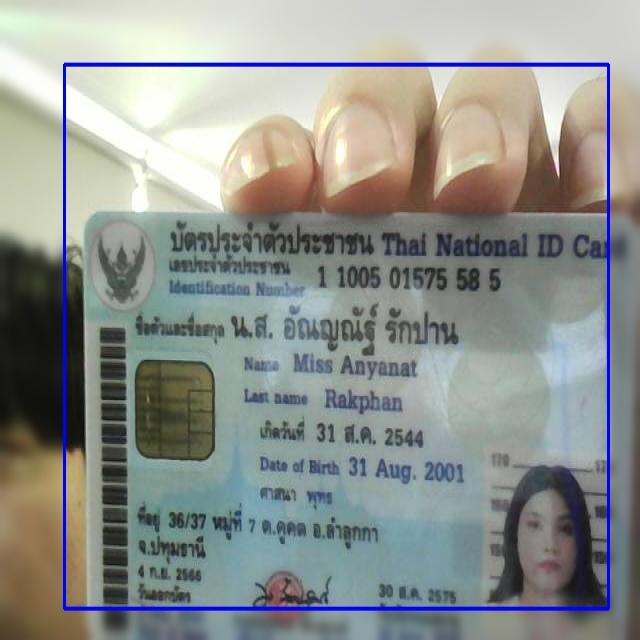Address_th: (129, 496, 395, 564)
Date_of_Birth: (347, 453, 467, 489)
First_Name: (290, 351, 422, 380)
ID_Number: (315, 262, 505, 296)
Image: (478, 438, 610, 637)
Last_Name: (322, 384, 406, 418)
Thai_Name: (227, 299, 474, 357)
